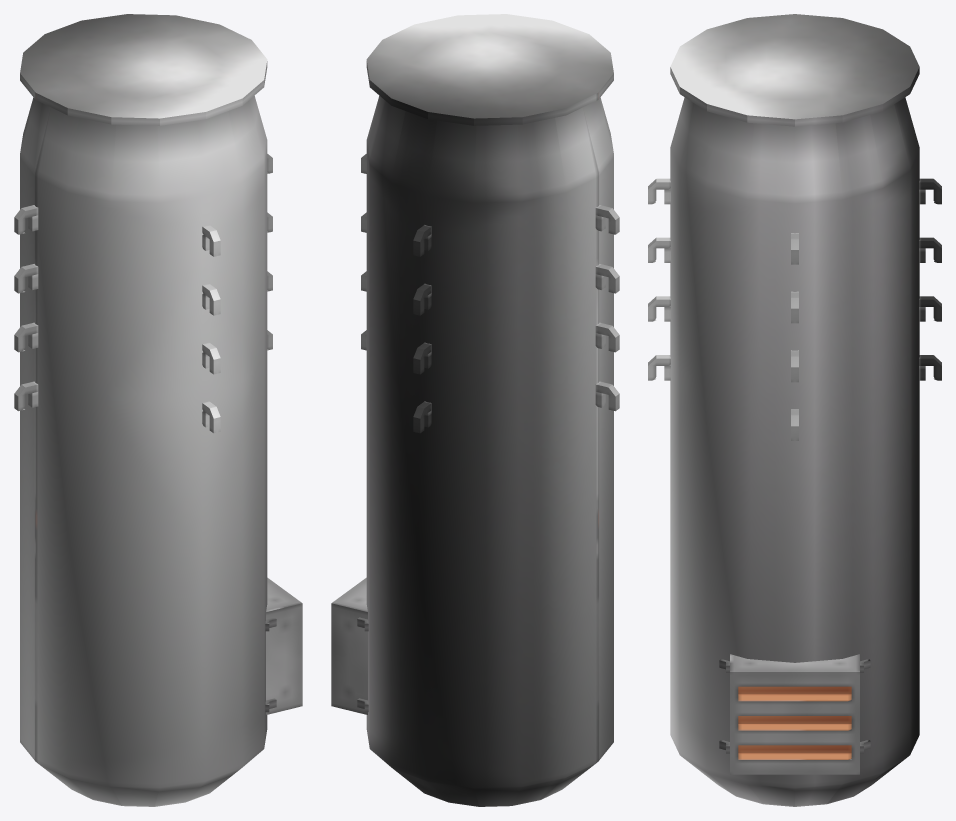
File: nuke_mike.obj
3 views of the same model, side by side, from view 1: azimuth 30°, elevation 25°; view 2: azimuth 150°, elevation 25°; view 3: azimuth 270°, elevation 25° (orthographic).
Parts seen in each view (by area): view 1: Cylinder; view 2: Cylinder; view 3: Cylinder.
Part boxes in pixels (bbox=[...]): Cylinder: bbox=[14, 14, 302, 806]; Cylinder: bbox=[331, 14, 619, 806]; Cylinder: bbox=[648, 14, 941, 806].
Size of the model in its own units: 2.26 by 6 by 2.26.
